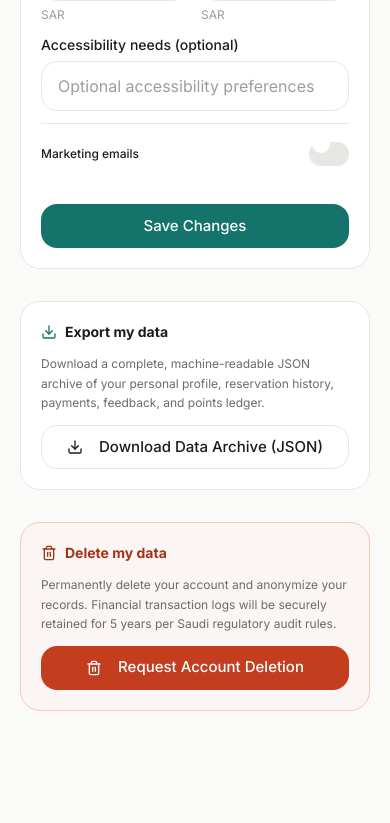
it: ProfilePrivacy › opens deletion modal when Request Account Deletion button is clicked
(page scrolled)
Click the button "Request Account Deletion" at (195, 668), box [41, 646, 349, 690]
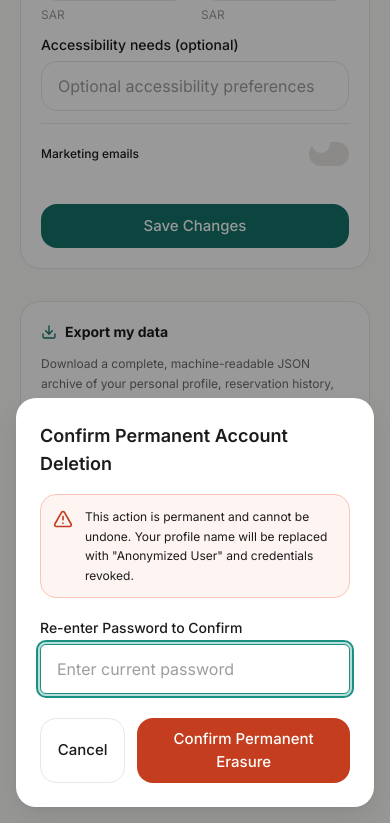
expect the heading "Confirm Permanent Account Deletion" is shown: met, box [40, 425, 288, 474]
expect the password field labelled "Re-enter Password to Confirm" is shown: met, box [40, 644, 350, 694]
